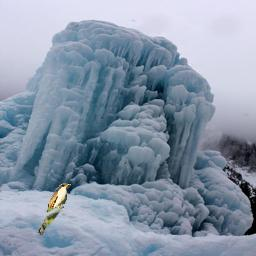Cuckoo: (37, 182, 72, 236)
